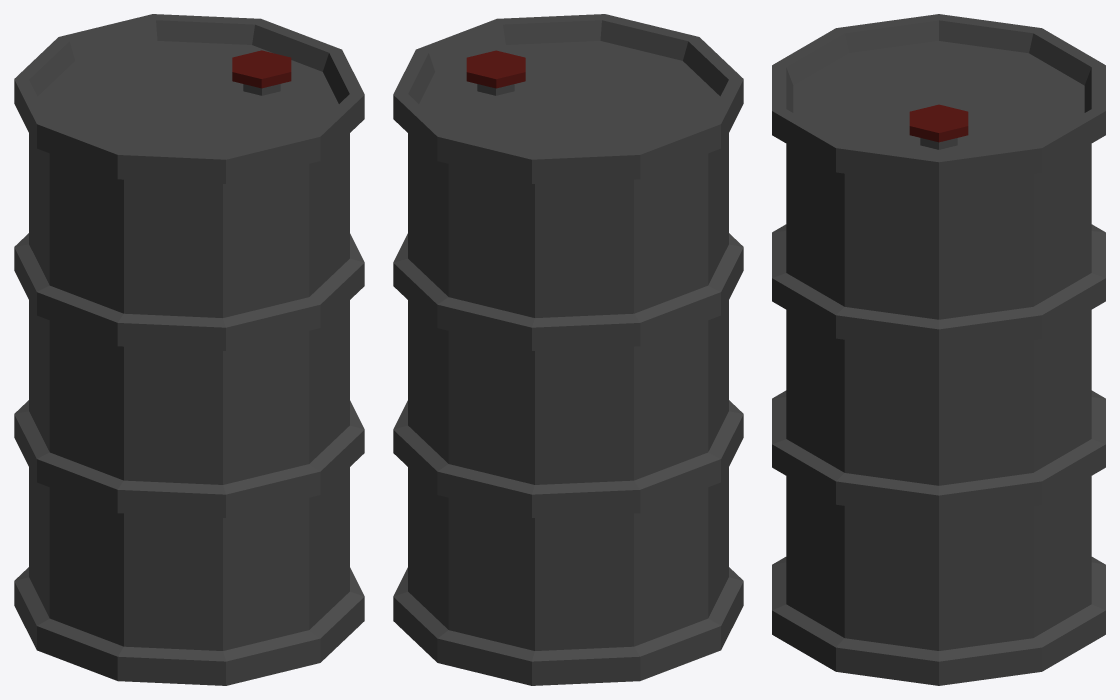
File: oil_barrel_4.FBX
3 renders of one model, left to right at view 1: azimuth 30°, elevation 25°; view 2: azimuth 150°, elevation 25°; view 3: azimuth 270°, elevation 25°, orthographic.
Parts seen in each view (by area): view 1: oil_barrel_4; view 2: oil_barrel_4; view 3: oil_barrel_4.
Boxes of the visible parts, bbox=[...] form: oil_barrel_4: bbox=[14, 14, 364, 685]; oil_barrel_4: bbox=[393, 14, 743, 685]; oil_barrel_4: bbox=[772, 14, 1105, 685].
Bounding box in the file's own units: 0.7365 × 1.22 × 0.7005.
1 material, 1 textured.
